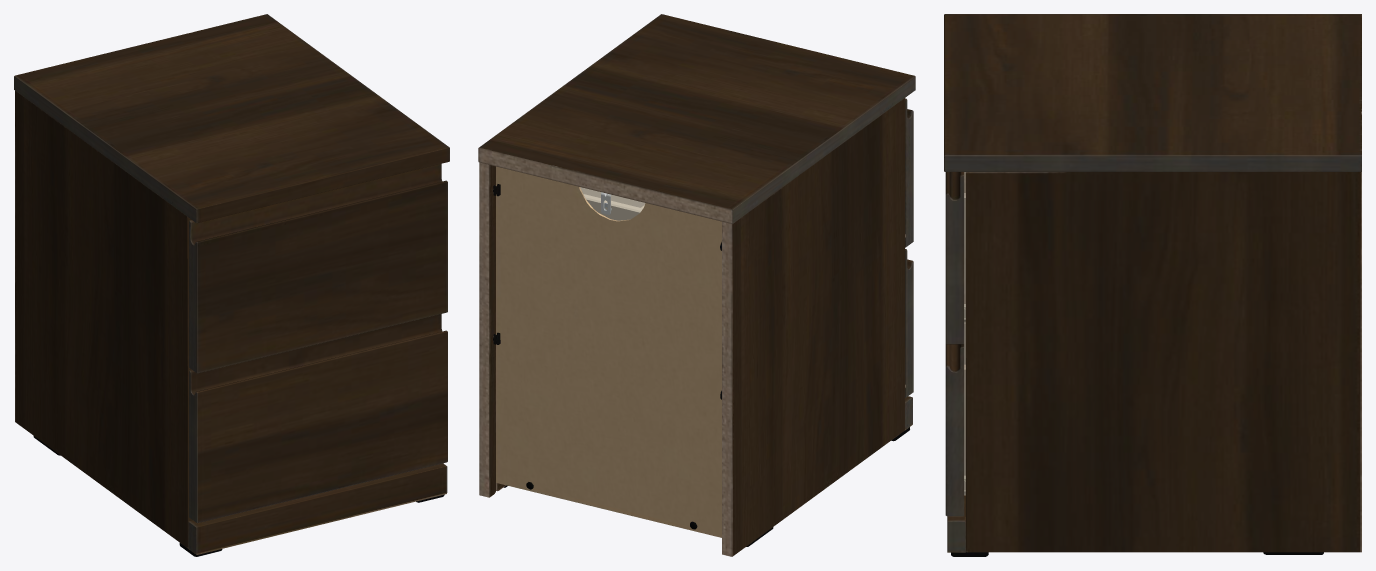
File: storklinta_komoda_2_szuflady_60631411.glb
3 renders of one model, left to right at view 1: azimuth 30°, elevation 25°; view 2: azimuth 150°, elevation 25°; view 3: azimuth 270°, elevation 25°, orthographic. The views are drawn at different scales.
Visible parts, largest first — view 1: storklinta_komoda_2_szuflady_60631411; view 2: storklinta_komoda_2_szuflady_60631411; view 3: storklinta_komoda_2_szuflady_60631411.
Boxes of the visible parts, x1,y1,x2,y2 form: storklinta_komoda_2_szuflady_60631411: [14, 14, 449, 556]; storklinta_komoda_2_szuflady_60631411: [478, 14, 915, 556]; storklinta_komoda_2_szuflady_60631411: [944, 14, 1361, 556].
Bounding box in the file's own units: 0.399 × 0.5275 × 0.496.
Materials: 1 (1 with a texture image).
